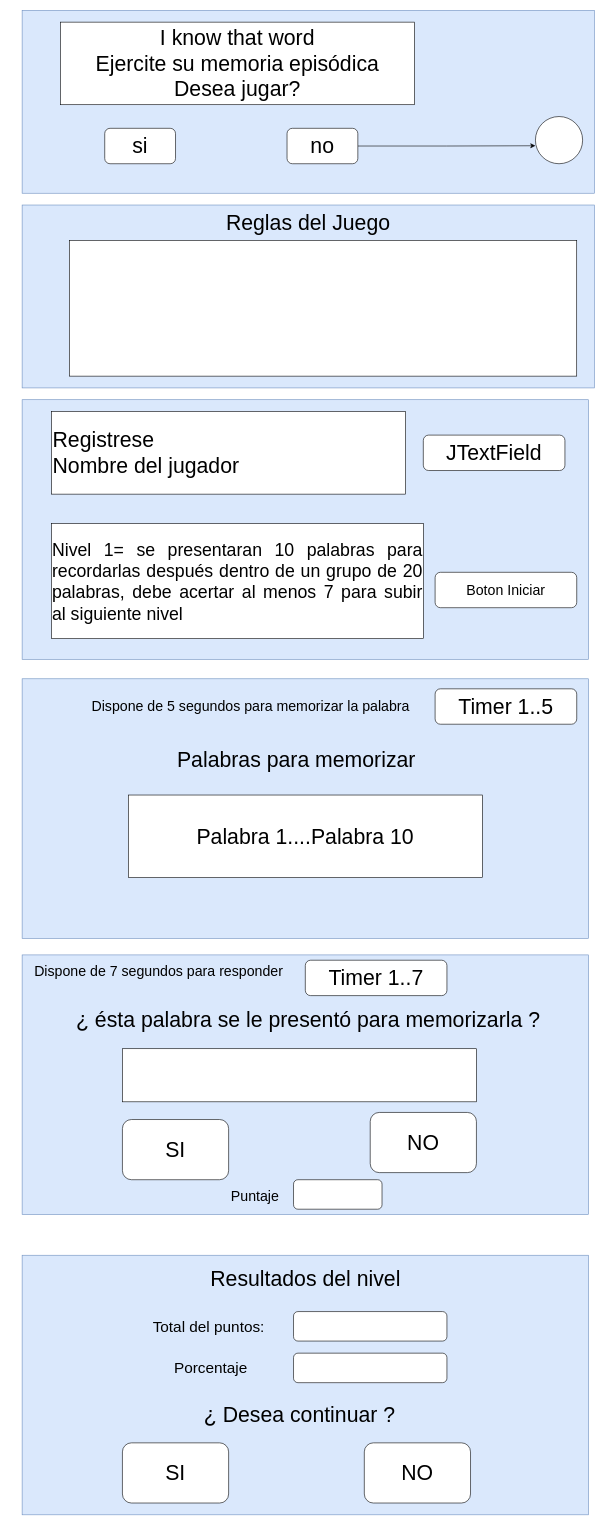
This 605x1525 diagram has some shape labels left out. The centre of each missing label's shape, as x and y in pixels:
"..toda la info...." belongs at pixel 323 308.
"Close Game" belongs at pixel 559 140.
"Palabra 1....Palabra 20" belongs at pixel 299 1075.
